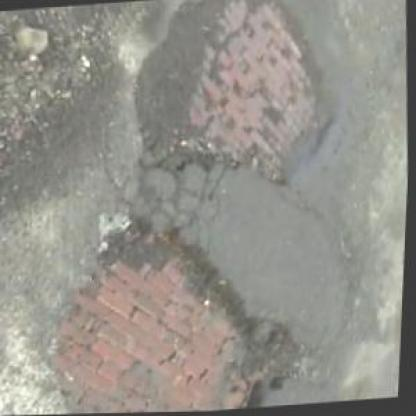pothole: (125, 0, 338, 200)
